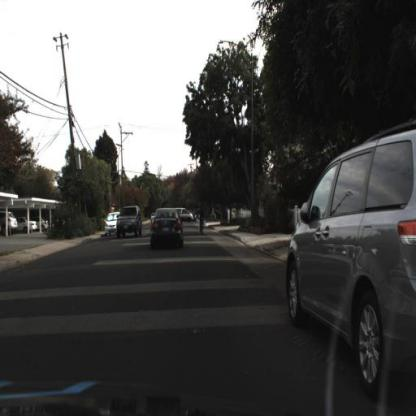biker: (196, 200, 208, 243), (198, 207, 208, 240)
car: (286, 114, 416, 409), (147, 206, 187, 254), (114, 201, 146, 239), (17, 215, 39, 239), (176, 202, 196, 225), (37, 210, 51, 234), (36, 213, 50, 233)
